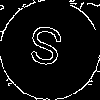S: (25, 25, 65, 76)
